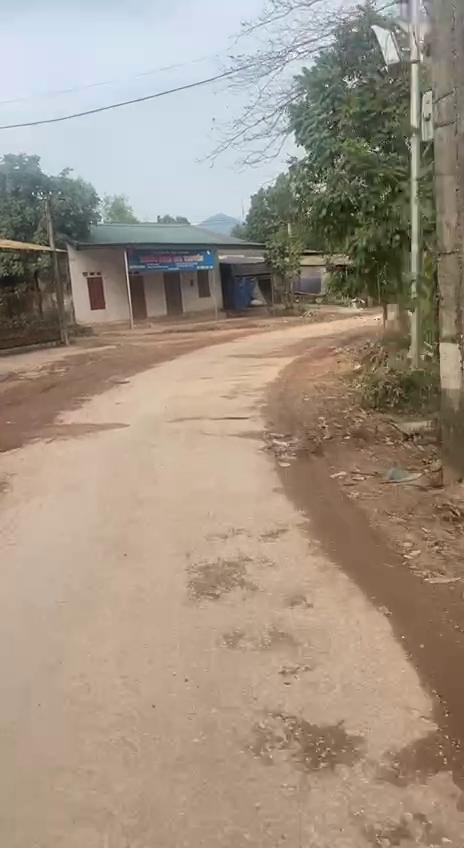pothole: (272, 709, 457, 790), (190, 550, 253, 604)
